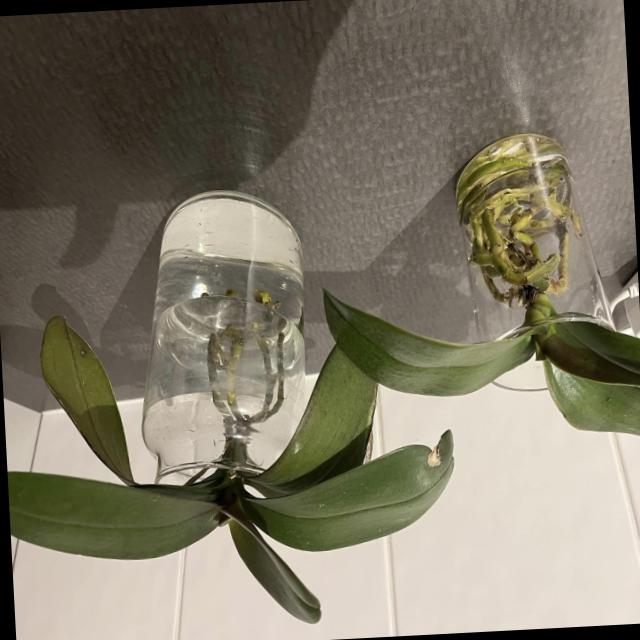leaf: (241, 434, 453, 552), (325, 294, 535, 397), (8, 473, 222, 560), (41, 319, 133, 486), (282, 344, 376, 492), (231, 521, 321, 624), (546, 363, 640, 436), (546, 321, 640, 385)
plant: (0, 9, 640, 640)
